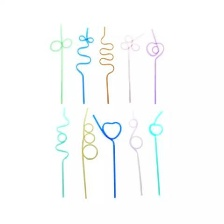drinking_straw: (90, 110, 125, 199), (142, 108, 170, 200), (50, 106, 75, 199), (47, 21, 74, 105), (94, 23, 121, 104), (142, 24, 167, 106)
